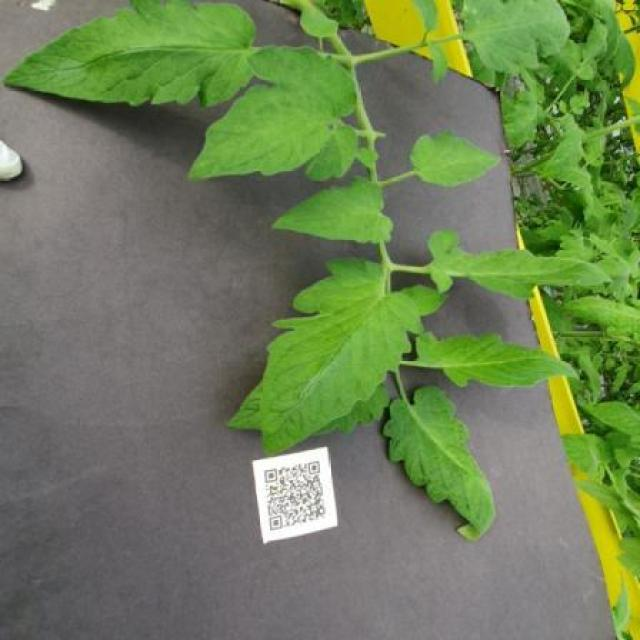Healthy: (258, 256, 425, 456), (4, 0, 259, 113), (186, 44, 360, 180), (384, 385, 504, 544), (422, 228, 614, 301), (416, 328, 583, 389), (272, 172, 397, 252), (405, 130, 508, 190)
